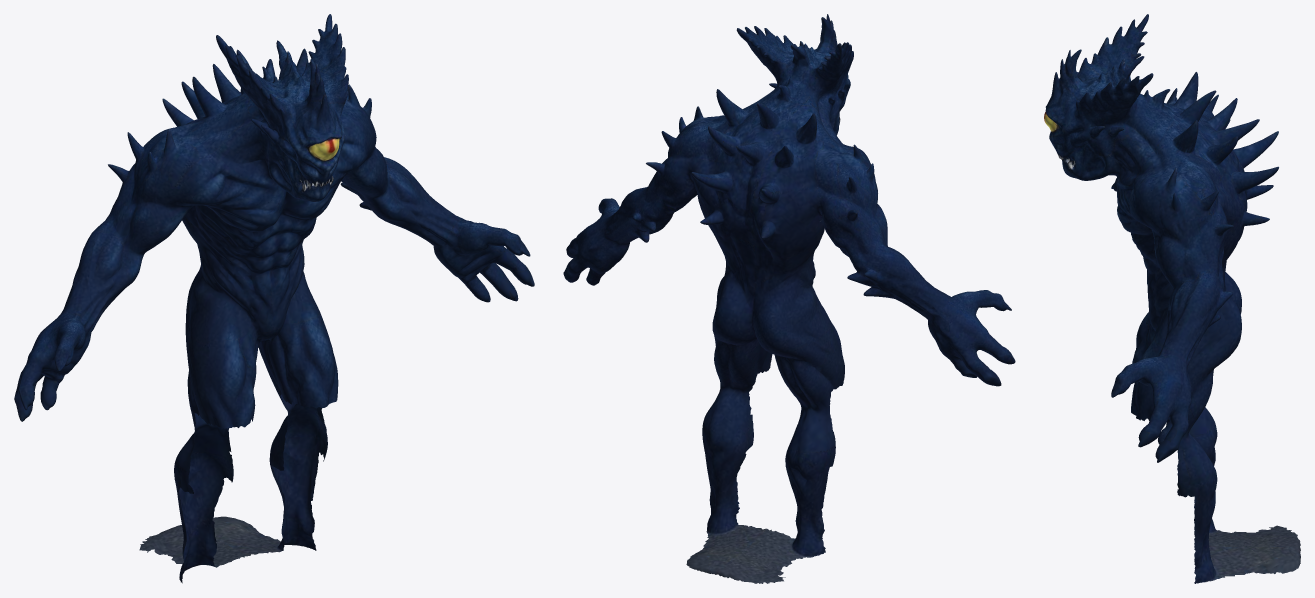
The model's file is cyclops-clean.glb.
The picture shows the model from 3 angles, left to right: view 1: azimuth 30°, elevation 25°; view 2: azimuth 150°, elevation 25°; view 3: azimuth 270°, elevation 25°; orthographic projection. The views are drawn at different scales.
Size of the model in its own units: 1.64 by 1.74 by 0.7862.
1 material, 1 textured.
